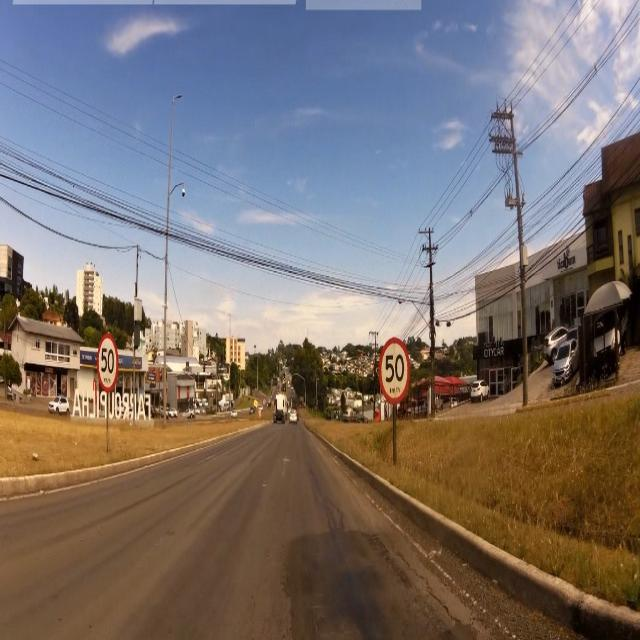R-19: (379, 336, 413, 408), (95, 334, 118, 397)
